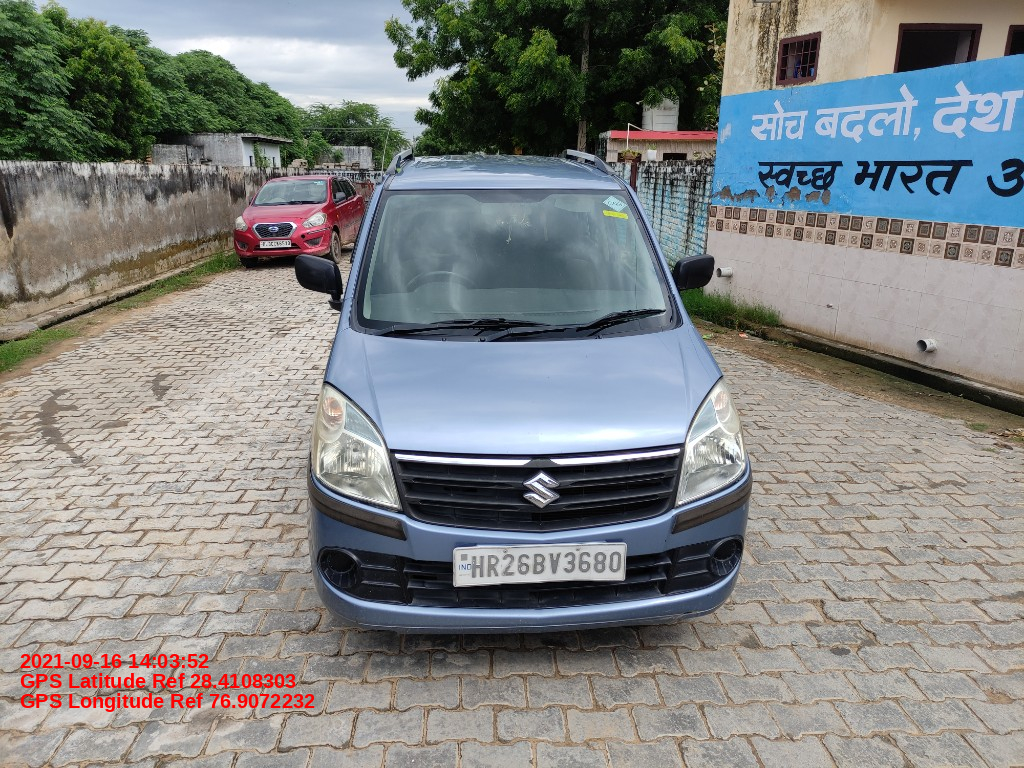Cracked: (657, 608, 704, 624)
Scratched: (662, 534, 669, 544)
